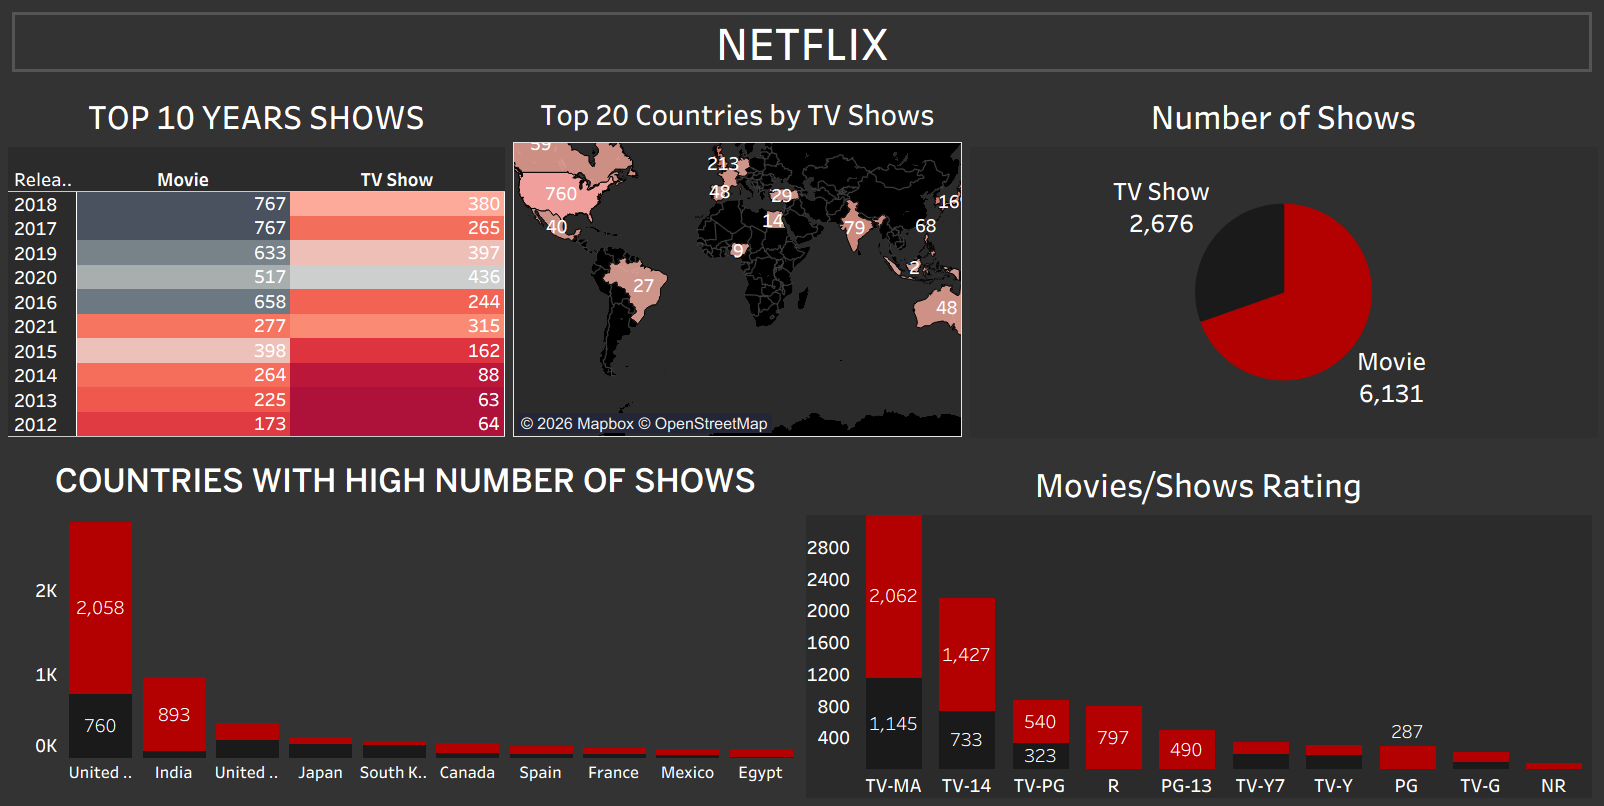

The dashboard page shown, as its layout file describes it:
{"tool":"tableau","page":{"name":"NETFLIX","canvas":[1000,1000],"units":"permille","ordinal":0},"visuals":[{"type":"title","box":[5,9.9,990,84.4]},{"type":"worksheet","title":"TOP 10 YEARS SHOWS","mark":"Square","rows":["release_year"],"cols":["type"],"box":[2.5,104.2,314.8,442.9]},{"type":"worksheet","title":"Top 20 Countries by TV Shows","mark":"Multipolygon","box":[317.3,104.2,284.9,442.9]},{"type":"worksheet","title":"Number of Shows","mark":"Pie","box":[602.2,104.2,395.9,442.9]},{"type":"worksheet","title":"Countries With High Number of Shows","mark":"Automatic","rows":["type"],"cols":["country"],"box":[5.6,560.8,494.3,434.2]},{"type":"worksheet","title":"Movies/Shows Rating","mark":"Automatic","rows":["type"],"cols":["rating"],"box":[499.9,560.8,494.3,434.2]}]}

Visuals, with their boxes on the dashboard's canvas, which has no fixed pixel size, in thousandths of its width and height (x1, y1, x2, y2). These are canvas units, not pixel positions in the 1604x806 screenshot, which may show the page scaled, cropped or inside an application window:
title: (left=5, top=10, right=995, bottom=94)
"TOP 10 YEARS SHOWS" worksheet (Square marks): (left=2, top=104, right=317, bottom=547)
"Top 20 Countries by TV Shows" worksheet (Multipolygon marks): (left=317, top=104, right=602, bottom=547)
"Number of Shows" worksheet (Pie marks): (left=602, top=104, right=998, bottom=547)
"Countries With High Number of Shows" worksheet: (left=6, top=561, right=500, bottom=995)
"Movies/Shows Rating" worksheet: (left=500, top=561, right=994, bottom=995)
